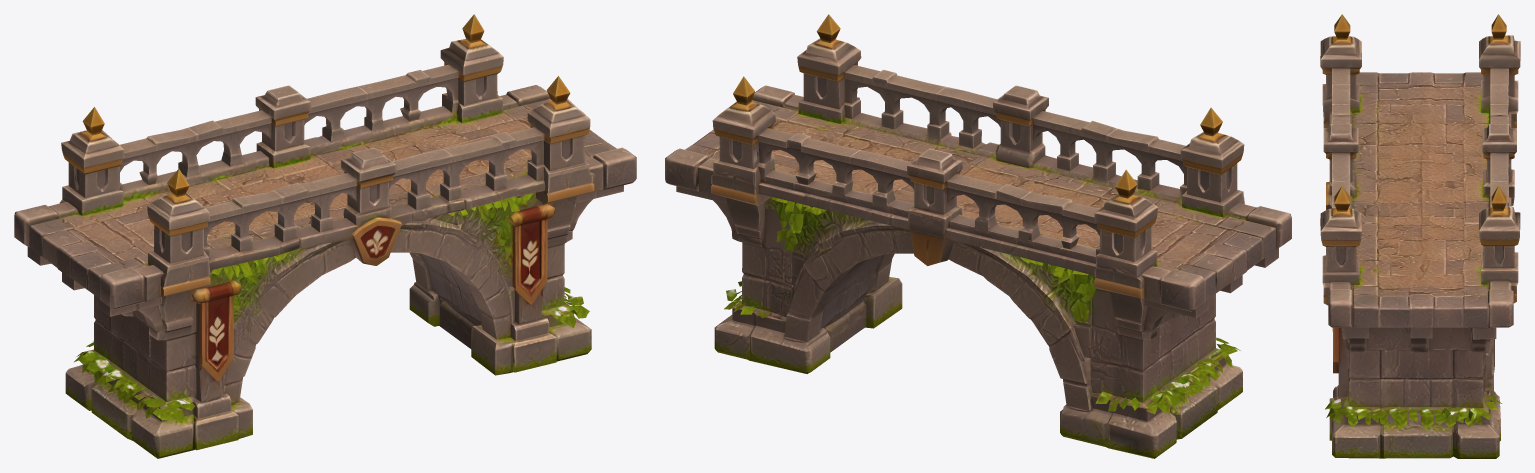
Rendered from city-stone-bridge.glb.
3 renders of one model, left to right at view 1: azimuth 30°, elevation 25°; view 2: azimuth 150°, elevation 25°; view 3: azimuth 270°, elevation 25°, orthographic. The views are drawn at different scales.
Parts seen in each view (by area): view 1: city-stone-bridge; view 2: city-stone-bridge; view 3: city-stone-bridge.
Part boxes in pixels (x1,y1,x2,y2): city-stone-bridge: (14,14,636,458); city-stone-bridge: (665,14,1291,458); city-stone-bridge: (1320,14,1520,458).
Bounding box in the file's own units: 19.56 × 10 × 6.95.
Materials: 1 (1 with a texture image).
